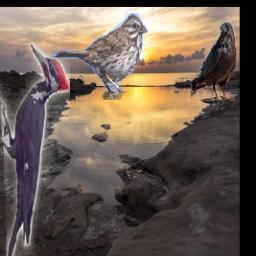Crow: (192, 22, 237, 101)
Sparrow: (50, 11, 148, 100)
Woodpecker: (1, 43, 71, 256)
